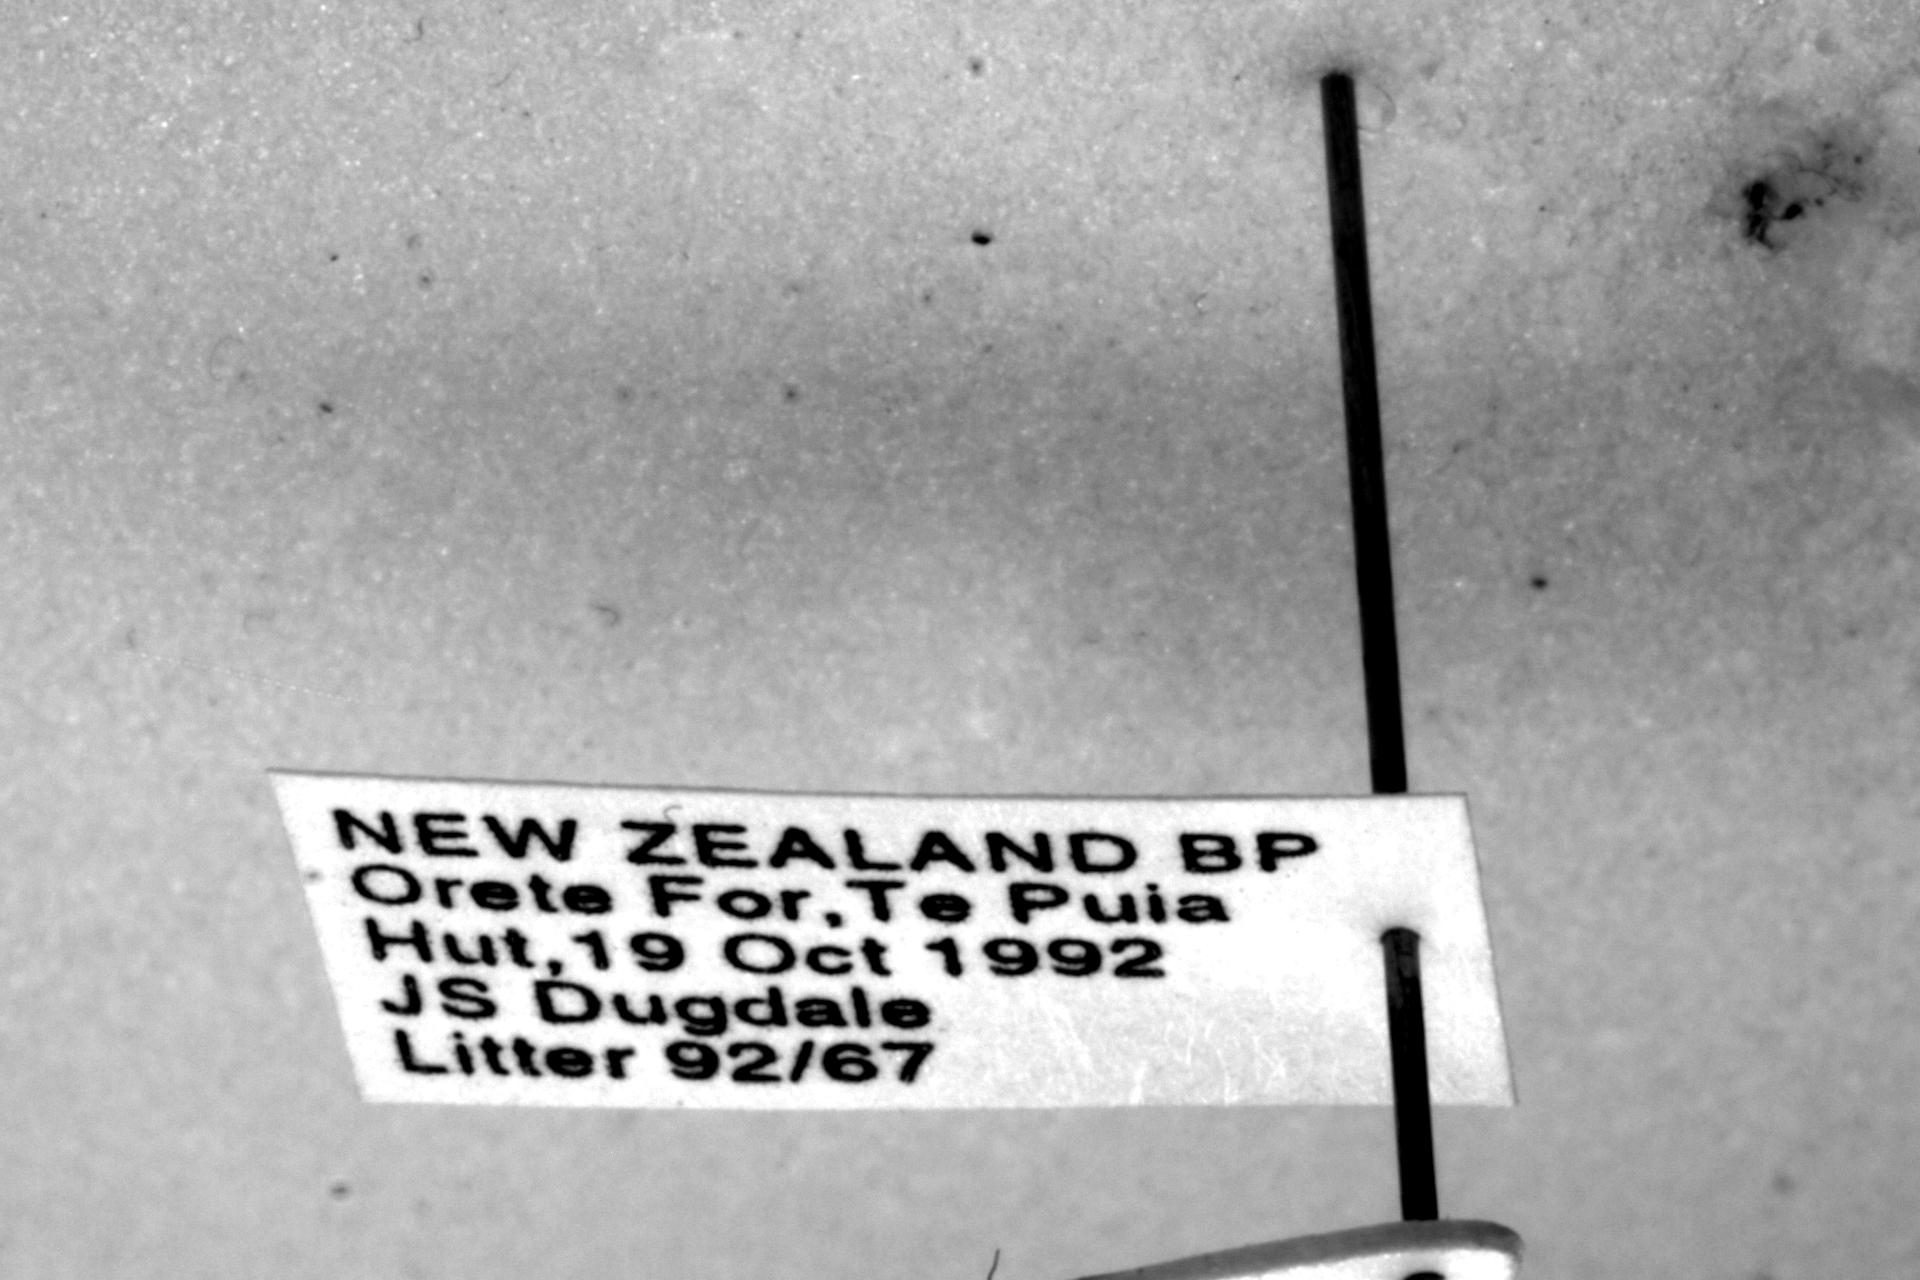typed_label: (274, 773, 1511, 1110)
